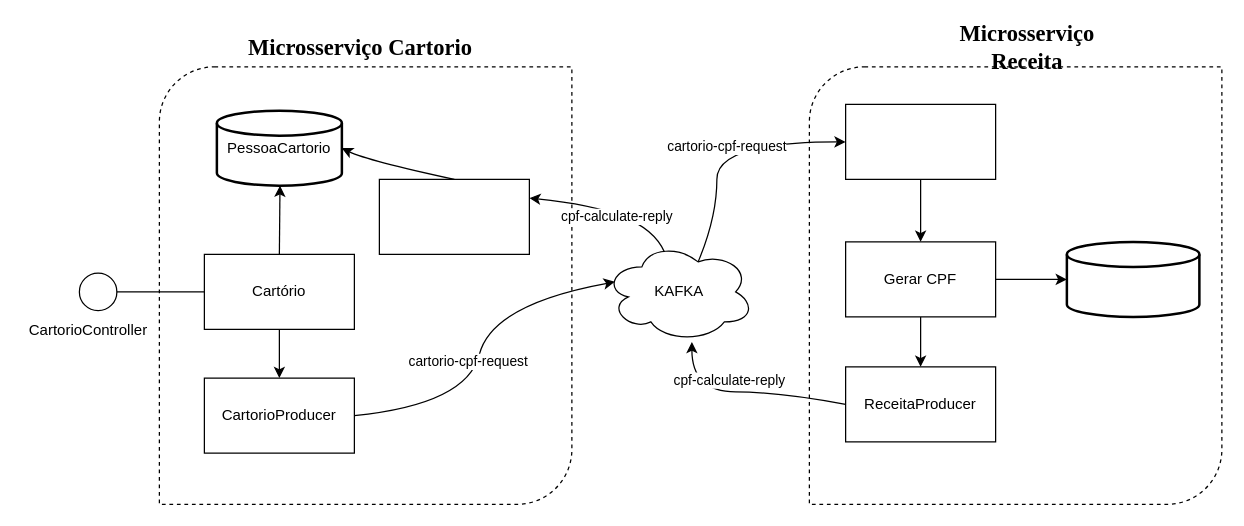
Image size: 1244x526. Some labels were removed from this diagram. The shapes that lost their labels are listed below. From the top down, each one's centre as x and y in pixels, then its label:
(x=920, y=141): ReceitaConsumer
(x=453, y=216): CartorioConsumer
(x=1132, y=279): PessoaReceita
